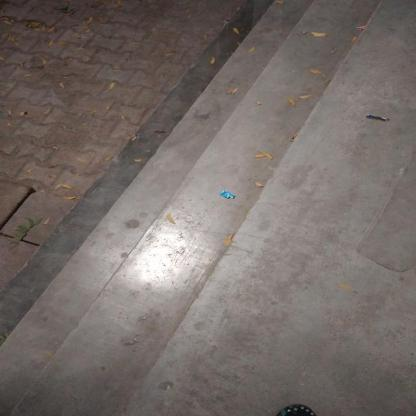stair: (7, 0, 380, 416)
